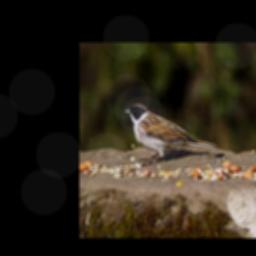Sparrow: (123, 102, 217, 164)
